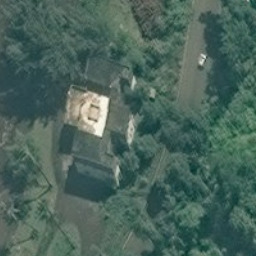buildings: (59, 132, 122, 190), (64, 132, 114, 180), (75, 90, 135, 123), (99, 143, 137, 177)
